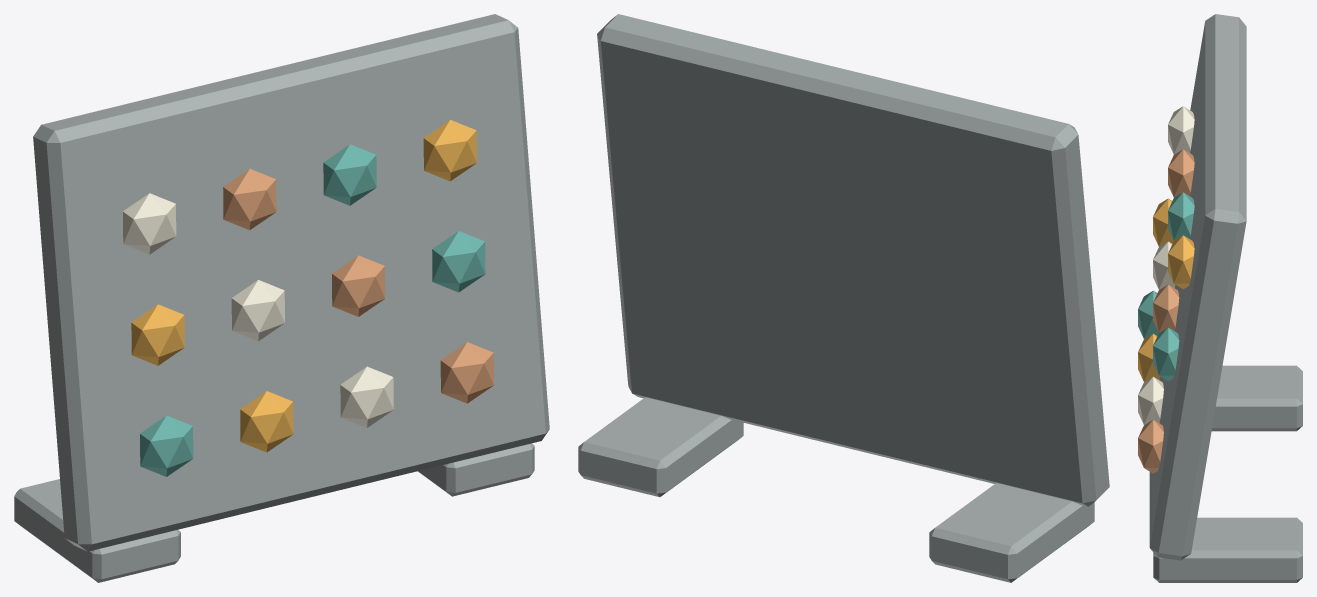
File: CC_MarbleMosaic.fbx
3 views of the same model, side by side, from view 1: azimuth 30°, elevation 25°; view 2: azimuth 150°, elevation 25°; view 3: azimuth 270°, elevation 25° (orthographic). The views are drawn at different scales.
Parts seen in each view (by area): view 1: Mosaic slab, Slab foot, Slab foot.001, Marble.005, Marble.008, Marble.010, Marble.001, Marble.003, Marble.006, Marble.011, Marble, Marble.009 (+3 smaller); view 2: Mosaic slab, Slab foot, Slab foot.001; view 3: Mosaic slab, Slab foot.001, Slab foot, Marble.011, Marble.010, Marble.009, Marble.002, Marble.005, Marble.008, Marble.007, Marble.006, Marble.004 (+3 smaller).
Boxes of the visible parts, x1,y1,x2,y2 form: Mosaic slab: (33, 14, 549, 551); Slab foot: (14, 479, 180, 582); Slab foot.001: (418, 443, 534, 496); Marble.005: (223, 169, 276, 230); Marble.008: (323, 144, 376, 205); Marble.010: (432, 231, 485, 292); Marble.001: (131, 304, 184, 365); Marble.003: (240, 391, 293, 452); Marble.006: (340, 366, 393, 427); Marble.011: (423, 120, 476, 181); Marble: (140, 415, 193, 476); Marble.009: (440, 342, 493, 403); Mosaic slab: (597, 14, 1109, 506); Slab foot: (929, 483, 1094, 582); Slab foot.001: (578, 397, 743, 497); Mosaic slab: (1149, 14, 1246, 560); Slab foot.001: (1153, 517, 1302, 582); Slab foot: (1211, 365, 1302, 431); Marble.011: (1168, 235, 1194, 289); Marble.010: (1153, 327, 1179, 381); Marble.009: (1138, 419, 1163, 473); Marble.002: (1168, 106, 1194, 154); Marble.005: (1168, 149, 1194, 197); Marble.008: (1168, 192, 1194, 240); Marble.007: (1153, 284, 1179, 332); Marble.006: (1138, 376, 1163, 424); Marble.004: (1153, 241, 1175, 289).
Bounding box in the file's own units: 1.6 × 1.4 × 0.551.
